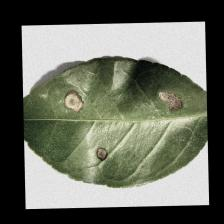canker: (59, 83, 184, 167)
